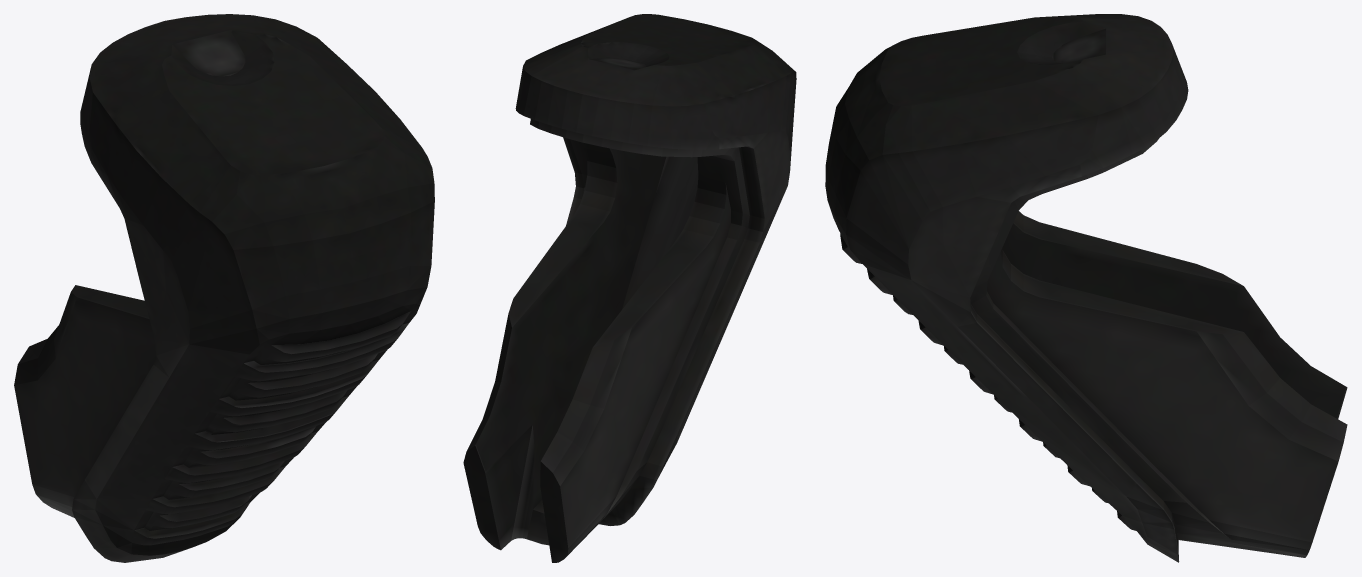
3 renders of one model, left to right at view 1: azimuth 30°, elevation 25°; view 2: azimuth 150°, elevation 25°; view 3: azimuth 270°, elevation 25°, orthographic. The views are drawn at different scales.
Parts seen in each view (by area): view 1: TW_60785c0d232e5a31c233d51c_PZ_Import; view 2: TW_60785c0d232e5a31c233d51c_PZ_Import; view 3: TW_60785c0d232e5a31c233d51c_PZ_Import.
Part boxes in pixels (x1,y1,x2,y2): TW_60785c0d232e5a31c233d51c_PZ_Import: [14, 14, 434, 562]; TW_60785c0d232e5a31c233d51c_PZ_Import: [463, 14, 796, 562]; TW_60785c0d232e5a31c233d51c_PZ_Import: [825, 14, 1347, 562].
Bounding box in the file's own units: 0.0238 × 0.0455 × 0.0488.
1 material, 1 textured.
